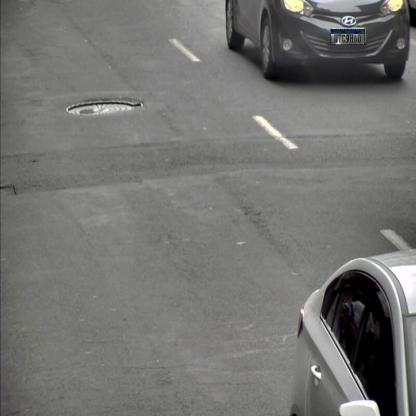PlacaM: (331, 29, 365, 45)
